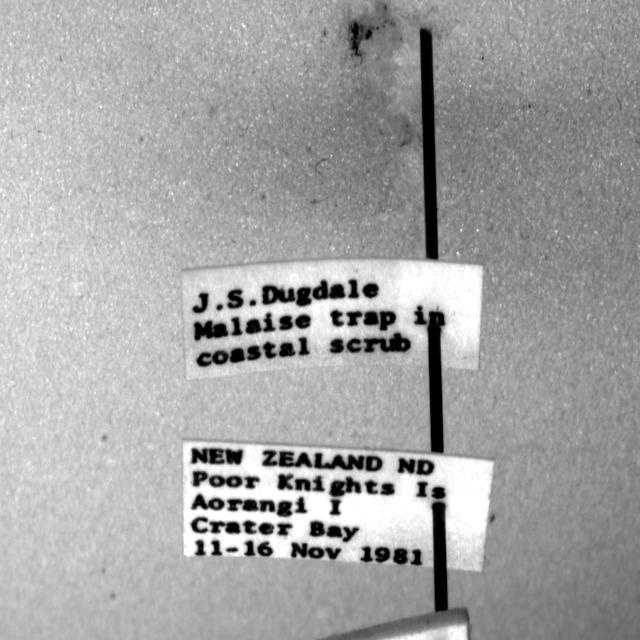typed_label: (182, 441, 494, 572), (182, 259, 482, 379)
